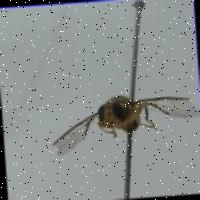Oriental-fruit-fly: (40, 83, 200, 162)
